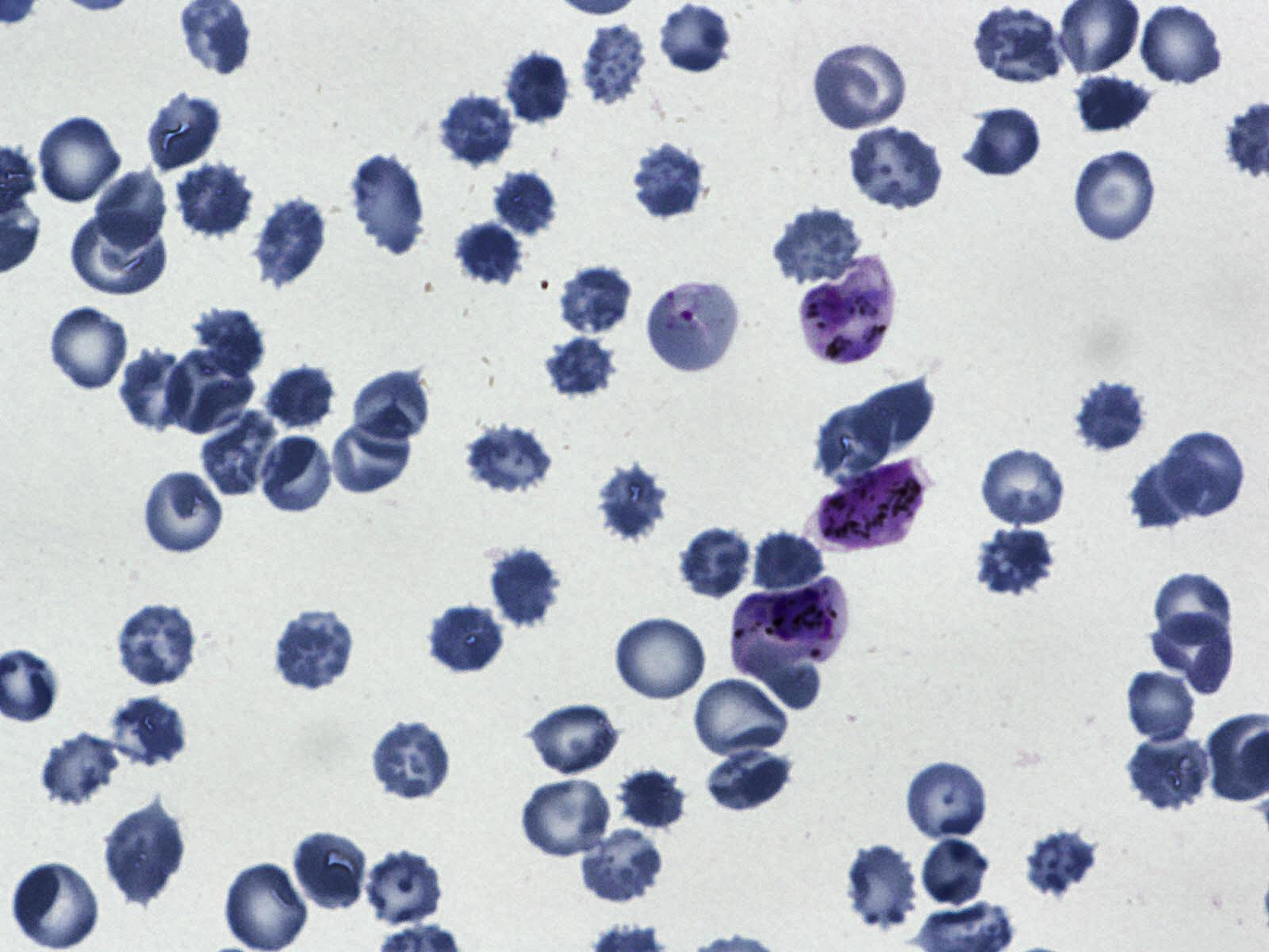Infected: (730, 575, 846, 680), (799, 255, 893, 366), (816, 456, 928, 548), (646, 278, 742, 377)
Uninfected: (845, 123, 945, 213), (613, 613, 709, 704), (162, 347, 255, 440), (811, 42, 907, 132), (75, 208, 171, 298), (693, 678, 792, 763), (11, 858, 102, 950), (36, 112, 125, 206), (103, 804, 186, 904), (1073, 147, 1158, 244), (347, 155, 426, 258), (518, 776, 615, 859), (972, 8, 1068, 87), (48, 303, 132, 393), (843, 839, 922, 934), (574, 822, 665, 904), (1163, 431, 1248, 518), (904, 760, 991, 843), (978, 447, 1068, 527), (1154, 605, 1234, 695), (1141, 2, 1225, 87), (362, 846, 447, 930), (142, 469, 225, 555), (199, 411, 282, 496), (92, 167, 170, 257), (1128, 731, 1213, 813), (528, 701, 623, 774), (465, 423, 556, 499), (254, 195, 328, 288), (774, 209, 864, 285), (115, 605, 199, 686), (226, 866, 305, 952), (292, 827, 369, 915), (331, 416, 417, 494), (274, 611, 356, 692), (851, 369, 932, 451), (968, 524, 1058, 597), (145, 88, 222, 173), (371, 721, 453, 800), (1158, 563, 1237, 643), (816, 401, 894, 482), (121, 351, 197, 433), (39, 731, 121, 807), (104, 695, 186, 771), (489, 546, 563, 630), (629, 142, 707, 221), (261, 433, 335, 516), (173, 160, 253, 236), (352, 371, 434, 444), (263, 359, 339, 436), (1129, 451, 1201, 532), (428, 603, 505, 678), (680, 526, 757, 601), (556, 262, 634, 335), (964, 106, 1043, 178), (659, 6, 736, 78), (435, 95, 513, 166), (707, 750, 796, 812), (1017, 827, 1099, 894), (502, 52, 574, 128), (919, 838, 992, 912), (1073, 381, 1147, 452), (600, 466, 669, 542), (191, 309, 266, 378), (750, 529, 826, 597), (581, 25, 648, 102), (489, 165, 558, 239), (1127, 667, 1194, 742), (1070, 71, 1153, 130), (545, 336, 616, 397), (458, 215, 521, 283), (618, 770, 687, 831)
